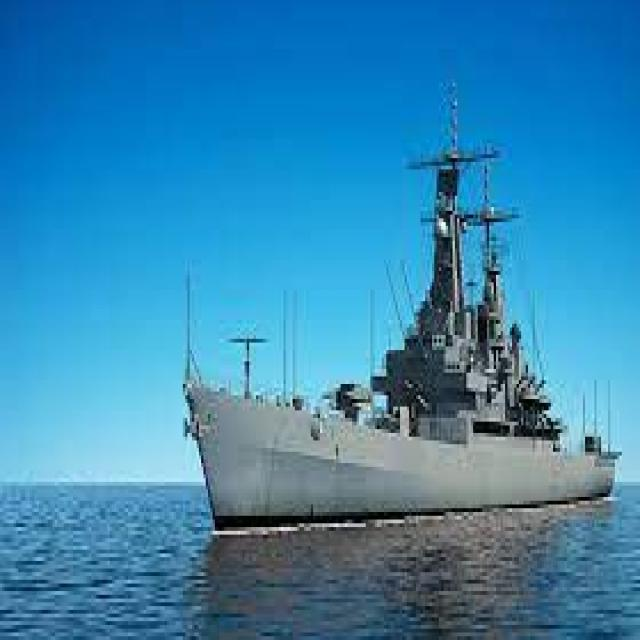navalvessels: (174, 112, 624, 538)
